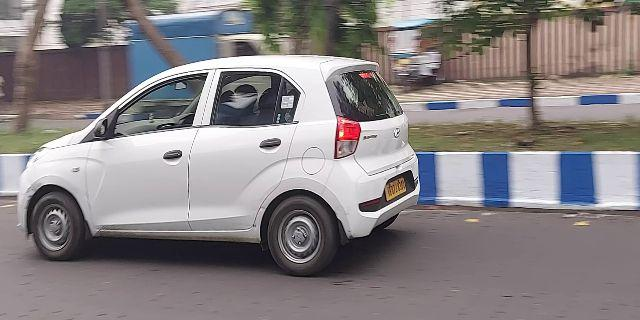Car: (14, 59, 418, 282)
